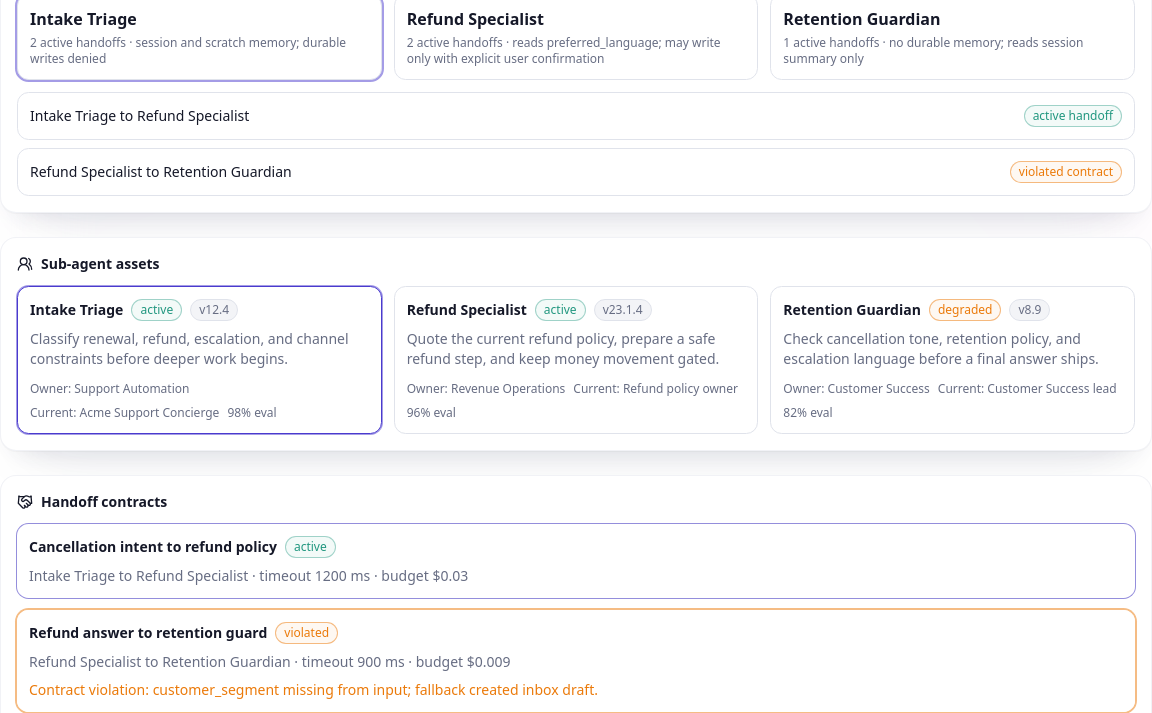
Scenario: ConductorStudio › switches inspector and shows failure paths for a degraded sub-agent
(page scrolled)
Step 1. Click the button with test id "conductor-agent-sub_retention_guardian" → coordinates (953, 360), box [770,286,1135,434]
(page scrolled)
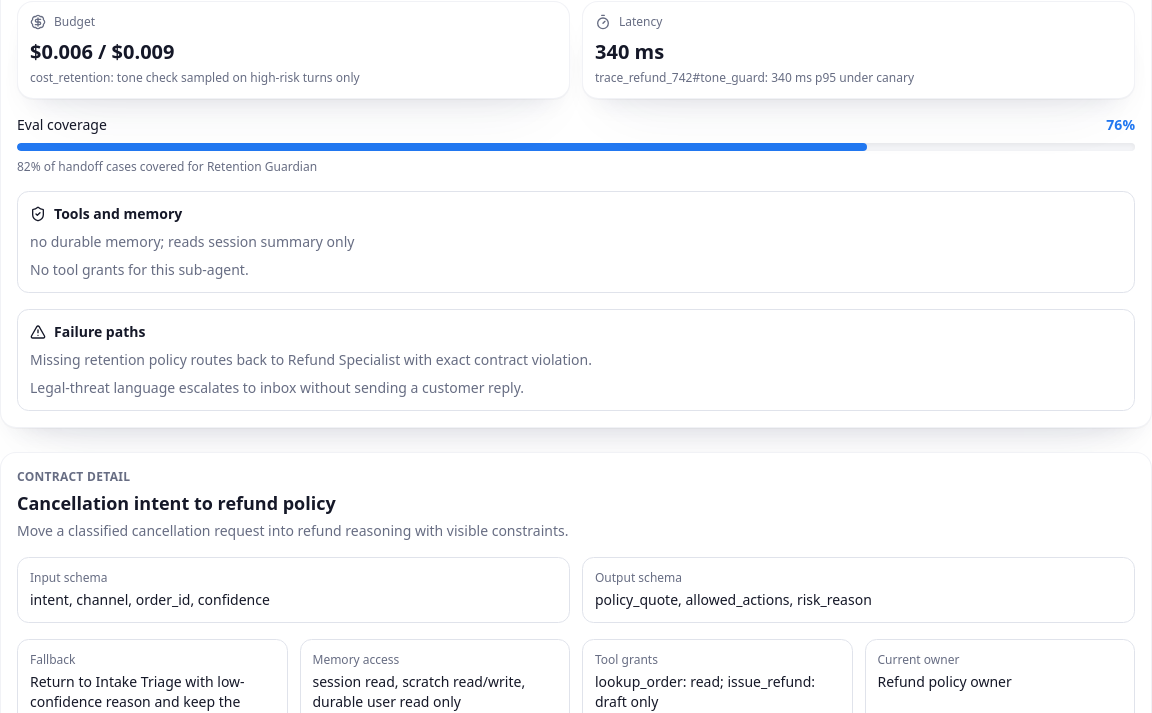
Now the element with test id "conductor-inspector" shows "No tool grants for this sub-agent", box [30,260,249,279]
Now the element with test id "conductor-failure" shows "Legal-threat language escalates to inbox", box [30,378,524,397]
